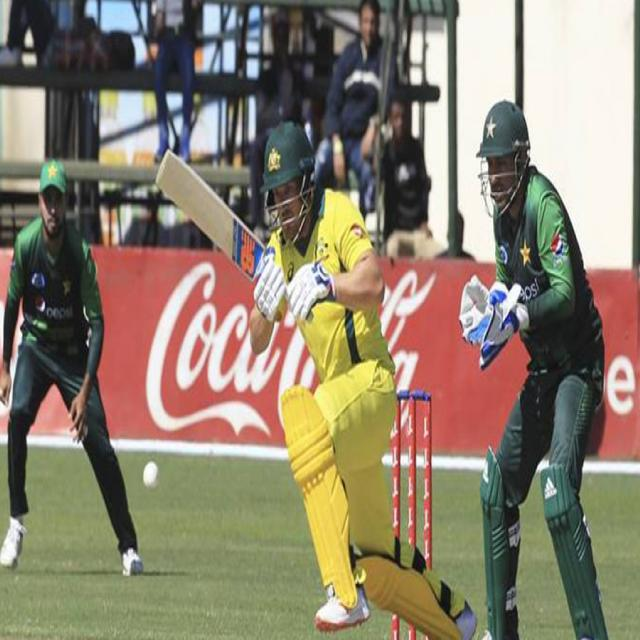stump: (390, 386, 435, 571)
